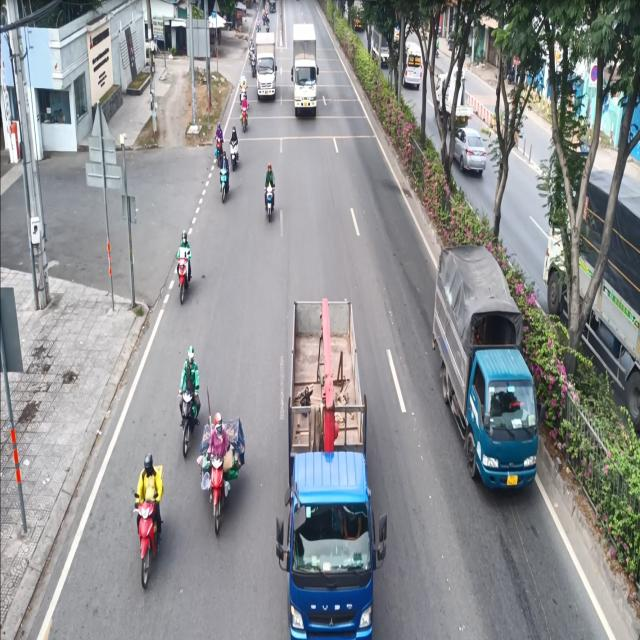motor: (135, 452, 163, 598), (208, 407, 229, 530), (179, 341, 196, 454), (174, 231, 192, 307), (265, 160, 276, 220), (218, 153, 230, 206), (230, 124, 240, 173)
truck: (282, 287, 387, 640), (431, 237, 540, 500), (291, 18, 319, 120), (255, 28, 278, 102)
